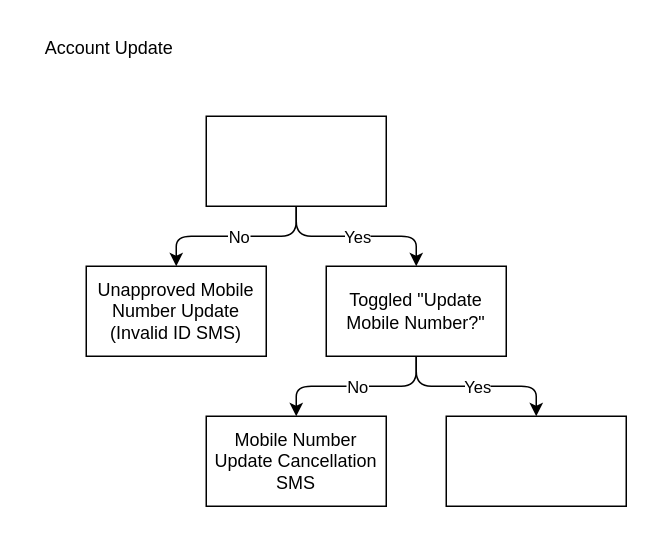
The diagram is 653 pixels wide and 533 high, and some of its shapes have lost their labels. Each missing label, with the centre of its shape:
"Mobile Number Update Approval SMS" belongs at (x=535, y=460).
"Valid ID?" belongs at (x=295, y=160).
